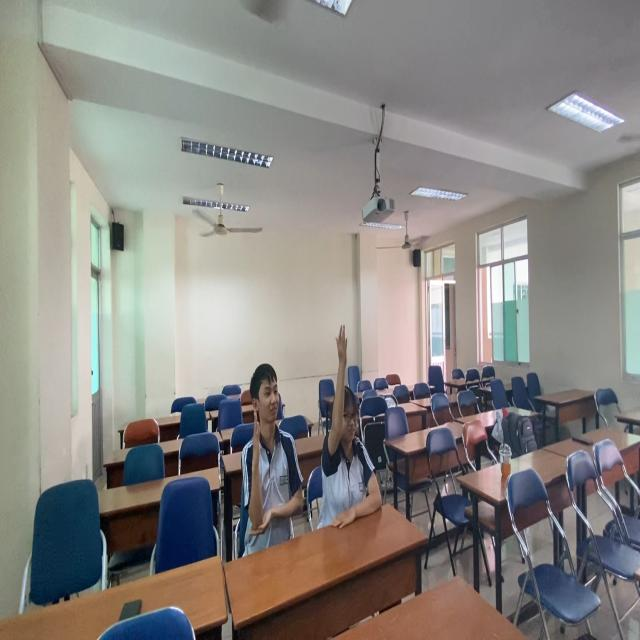raise_hand: (324, 321, 385, 536), (242, 354, 309, 539)
